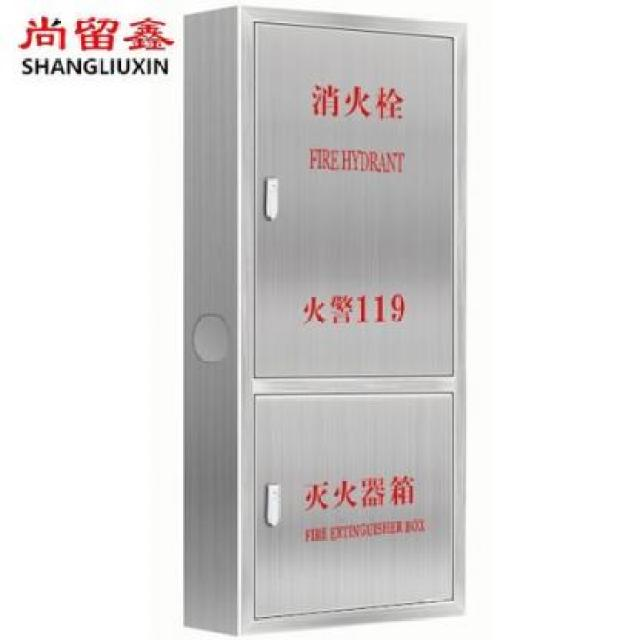firehydrant: (177, 0, 470, 640)
